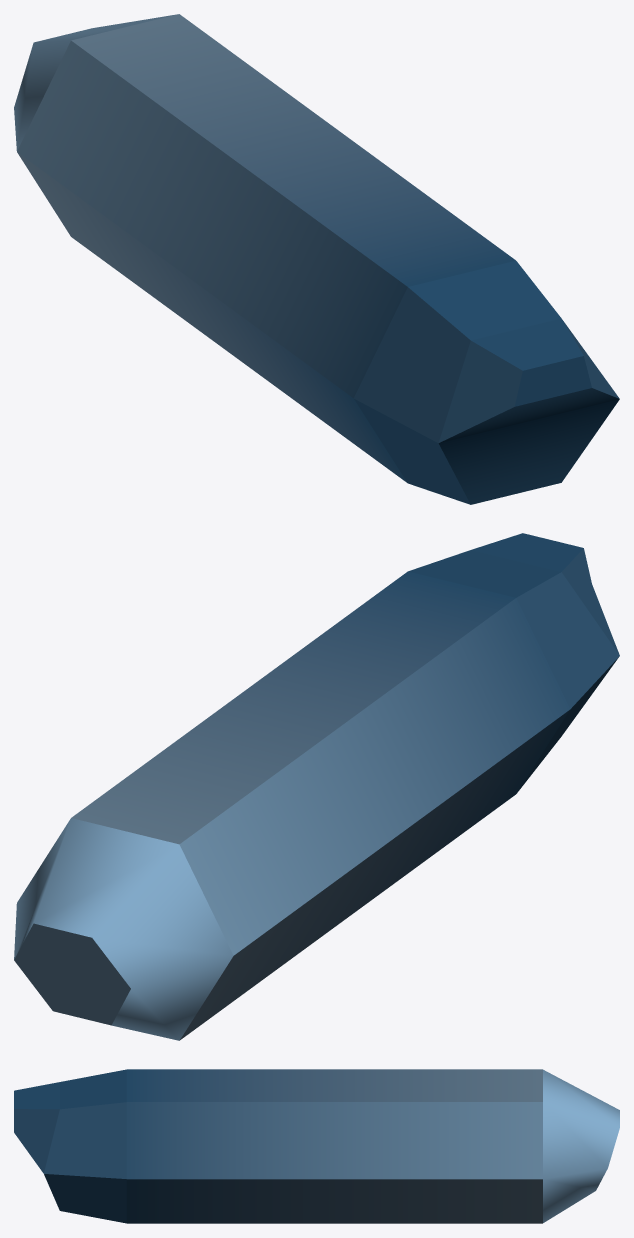
File: IceCrystal.006.glb
3 renders of one model, top to bottom at view 1: azimuth 30°, elevation 25°; view 2: azimuth 150°, elevation 25°; view 3: azimuth 270°, elevation 25°, orthographic. The views are drawn at different scales.
Parts seen in each view (by area): view 1: IceCrystal.006; view 2: IceCrystal.006; view 3: IceCrystal.006.
Part boxes in pixels (x1=…): IceCrystal.006: x1=14, y1=14, x2=619, y2=504; IceCrystal.006: x1=14, y1=533, x2=619, y2=1040; IceCrystal.006: x1=14, y1=1069, x2=619, y2=1223.
Size of the model in its own units: 145 by 125 by 568.
